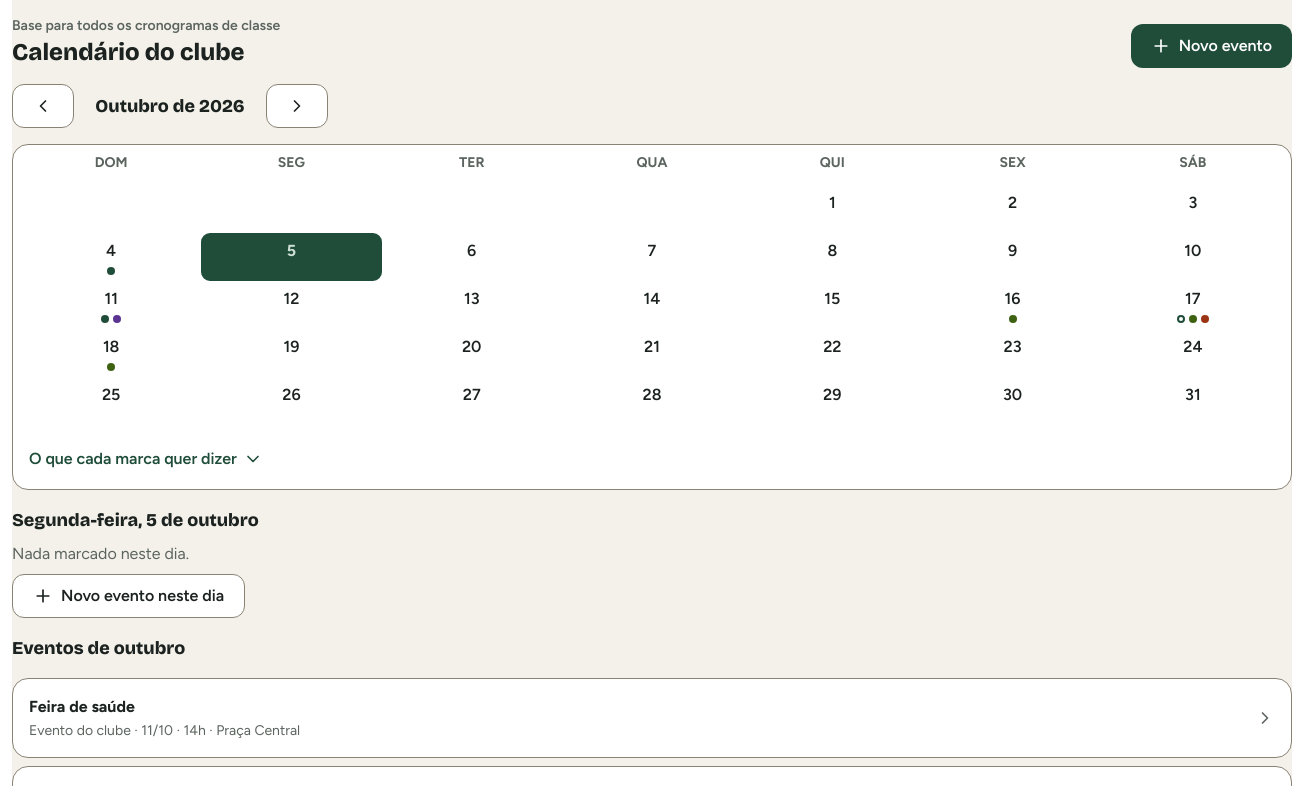
Test: calendário · no celular › tocar num dia mostra a reunião com a hora e o evento com o link para a ficha, sem criar nada
Click the button named "11 de outubro".
click(111, 305)  # box [21,281,201,329]
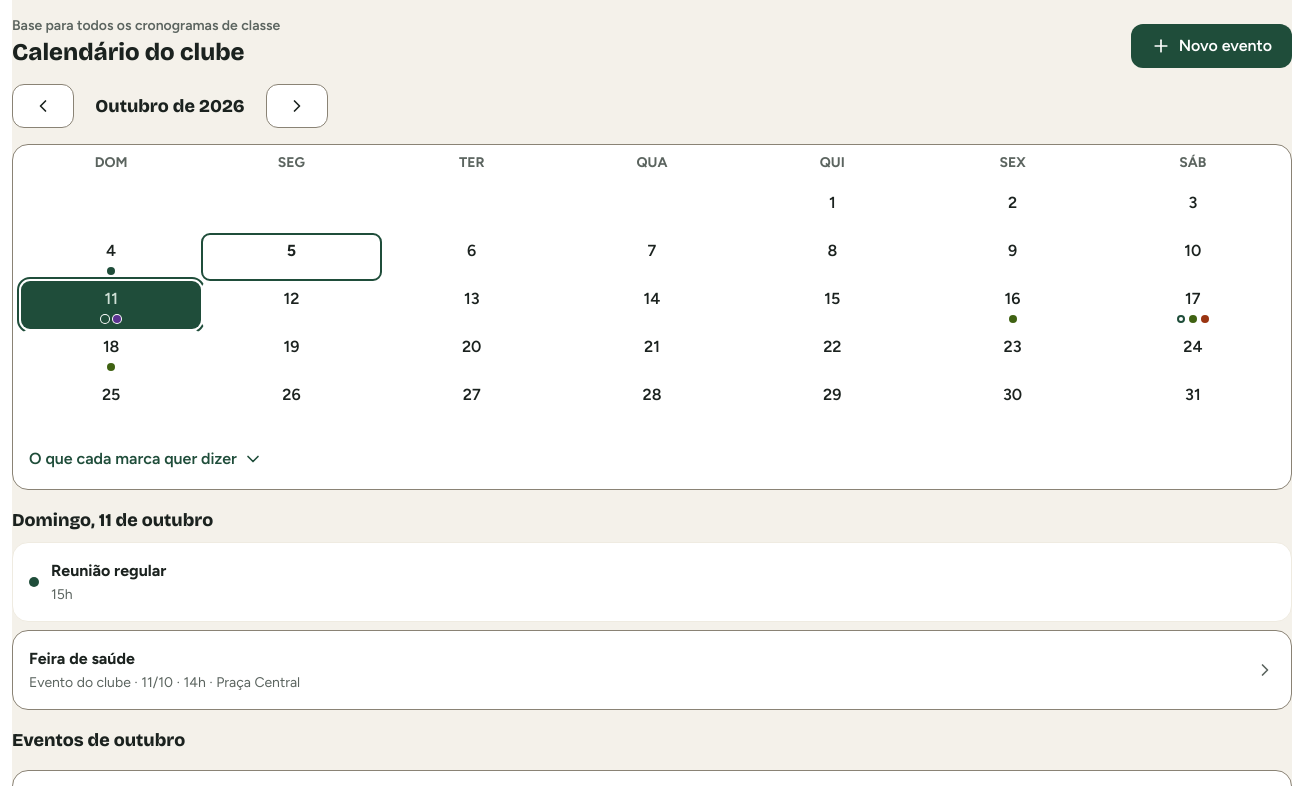
Expected: the text "Reunião regular" is shown, [51,559,166,583]
Expected: the text "15h" is shown, [51,586,73,603]
Expected: the text "Evento do clube · 11/10 · 14h · Praça Central" is shown, [29,674,300,691]
